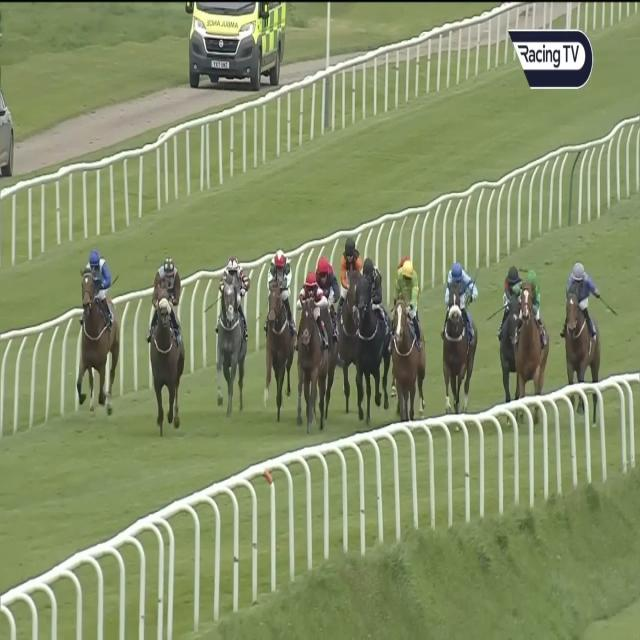horses-racing: (356, 249, 391, 419), (442, 255, 478, 417), (562, 257, 602, 390), (150, 261, 183, 418), (79, 250, 113, 400), (263, 250, 293, 403), (218, 254, 245, 416), (513, 272, 544, 413), (296, 270, 322, 438), (390, 258, 418, 411), (497, 259, 524, 379), (336, 232, 360, 299), (316, 255, 339, 307)
